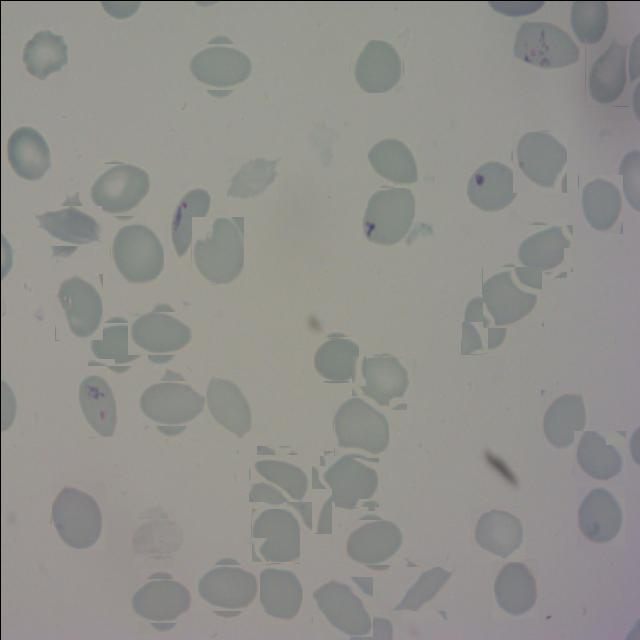leukocyte: (482, 266, 542, 327), (312, 576, 372, 636), (51, 481, 104, 548), (109, 222, 163, 287), (191, 216, 243, 283), (90, 160, 149, 219), (333, 395, 388, 458), (142, 374, 200, 432), (282, 465, 331, 533), (512, 131, 566, 192), (54, 273, 102, 340), (198, 559, 254, 615), (191, 38, 247, 94), (203, 375, 252, 439), (321, 452, 376, 508), (584, 37, 628, 106), (133, 573, 188, 628), (132, 306, 188, 360), (576, 484, 624, 546), (252, 450, 307, 504), (396, 561, 451, 615), (540, 389, 588, 450), (354, 352, 408, 406), (40, 198, 94, 252), (348, 38, 402, 92), (4, 123, 52, 183), (471, 506, 524, 560), (252, 565, 302, 622), (460, 294, 507, 354), (346, 515, 399, 568), (516, 221, 569, 274), (491, 558, 537, 618), (90, 318, 142, 370), (573, 430, 625, 482), (577, 174, 622, 234), (250, 508, 299, 563), (366, 136, 418, 187), (20, 26, 67, 80), (129, 512, 177, 560), (226, 155, 277, 199), (313, 337, 357, 381)
red blood cell: (513, 18, 580, 70), (169, 188, 210, 258), (76, 374, 120, 436)
